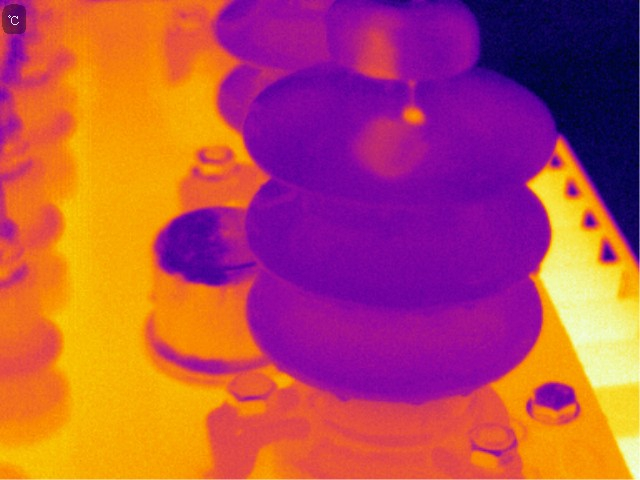Oil: (341, 115, 436, 182), (349, 7, 404, 82), (398, 75, 435, 127), (333, 383, 356, 405)
